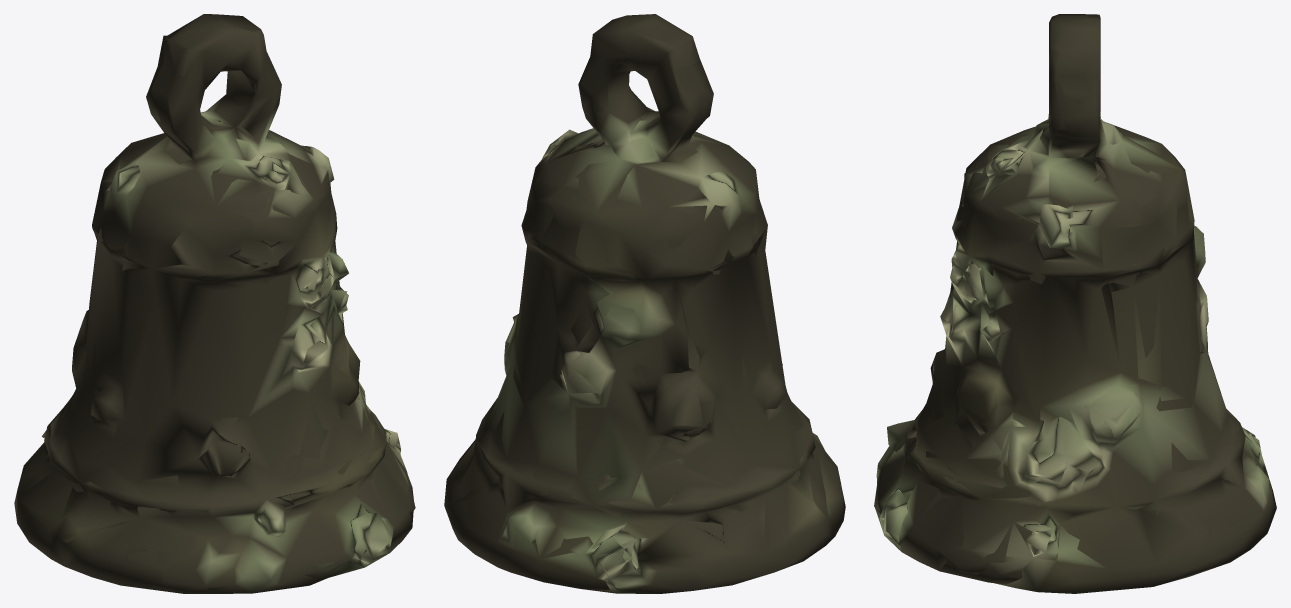
File: gen3d-sunken-bell-lod0.glb
3 renders of one model, left to right at view 1: azimuth 30°, elevation 25°; view 2: azimuth 150°, elevation 25°; view 3: azimuth 270°, elevation 25°, orthographic.
Visible parts, largest first — view 1: part_0; view 2: part_0; view 3: part_0.
Part boxes in pixels (x1,y1,x2,y2): part_0: [14, 14, 415, 593]; part_0: [444, 14, 845, 593]; part_0: [874, 14, 1276, 593].
Size of the model in its own units: 0.7211 by 0.9977 by 0.7226.
